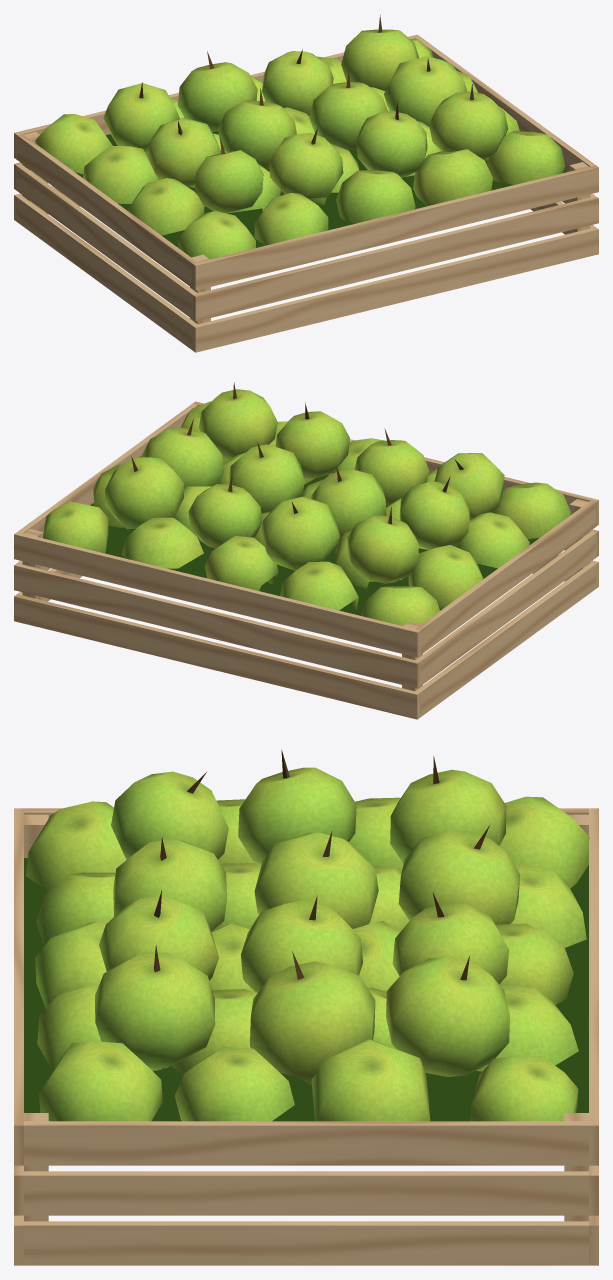
File: Prop_FruitCrateL_Green.fbx
The picture shows the model from 3 angles, top to bottom: view 1: azimuth 30°, elevation 25°; view 2: azimuth 150°, elevation 25°; view 3: azimuth 270°, elevation 25°; orthographic projection. The views are drawn at different scales.
Visible parts, largest first — view 1: Prop_FruitCrateL_Green_LOD0; view 2: Prop_FruitCrateL_Green_LOD0; view 3: Prop_FruitCrateL_Green_LOD0.
Part boxes in pixels (box(x1,y1,x2,y2)): Prop_FruitCrateL_Green_LOD0: box(14, 14, 598, 352); Prop_FruitCrateL_Green_LOD0: box(14, 382, 598, 719); Prop_FruitCrateL_Green_LOD0: box(14, 750, 598, 1265).
Size of what is drawn, in the model's own units: 1.36 by 0.5137 by 1.06.
Materials: 1 (1 with a texture image).
